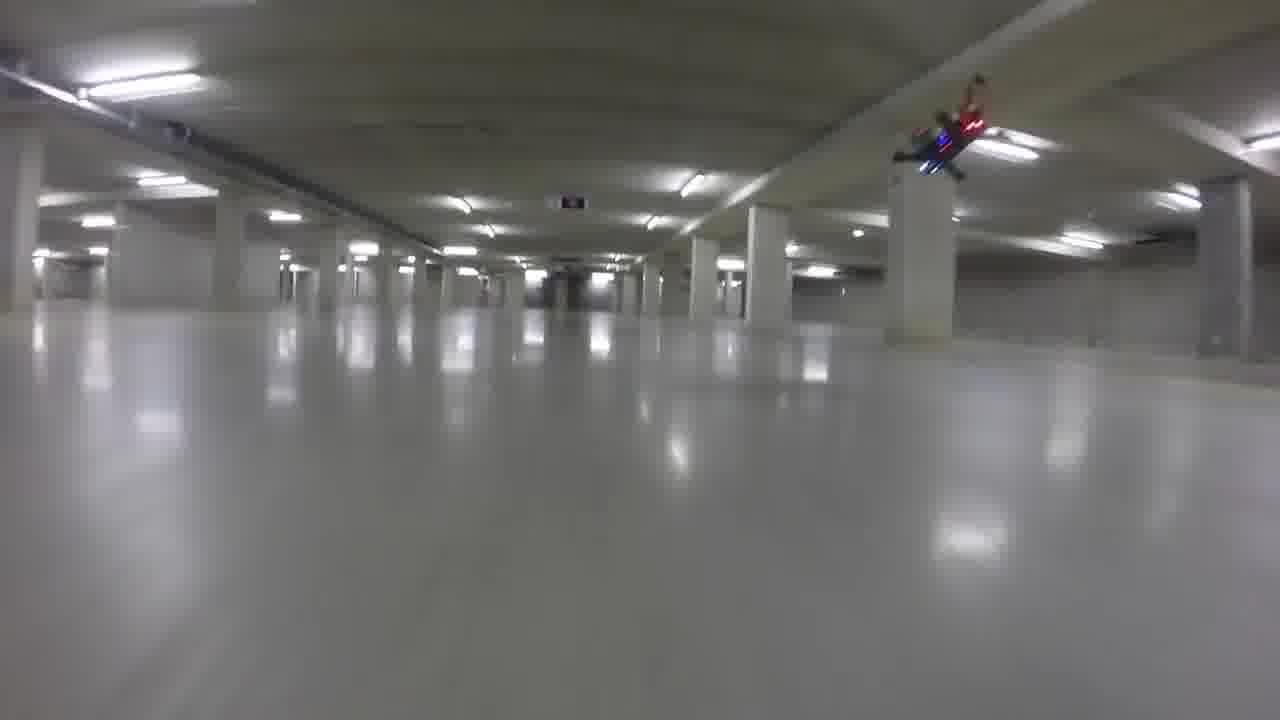drone: (882, 79, 1014, 184)
